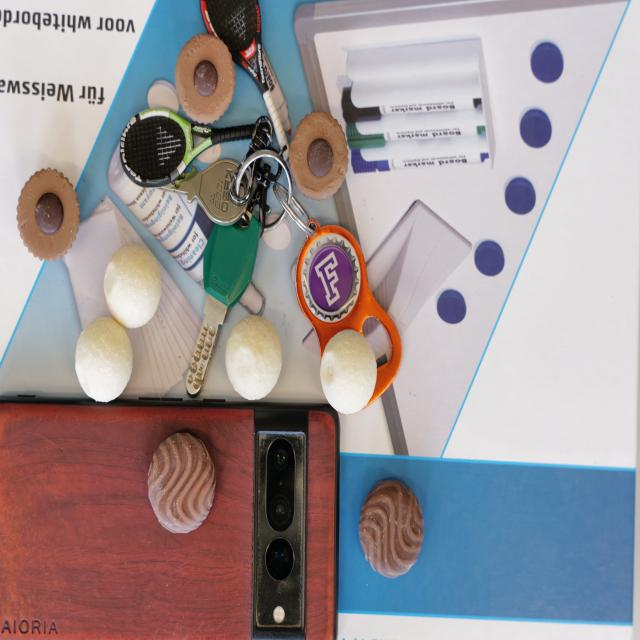Comtesse: (106, 242, 165, 328), (226, 315, 283, 400), (320, 330, 377, 412), (76, 318, 130, 402)
Noblesse: (17, 168, 78, 259), (290, 109, 349, 198), (177, 34, 233, 124)
Noir_authentique: (148, 430, 214, 532), (359, 478, 423, 575)
